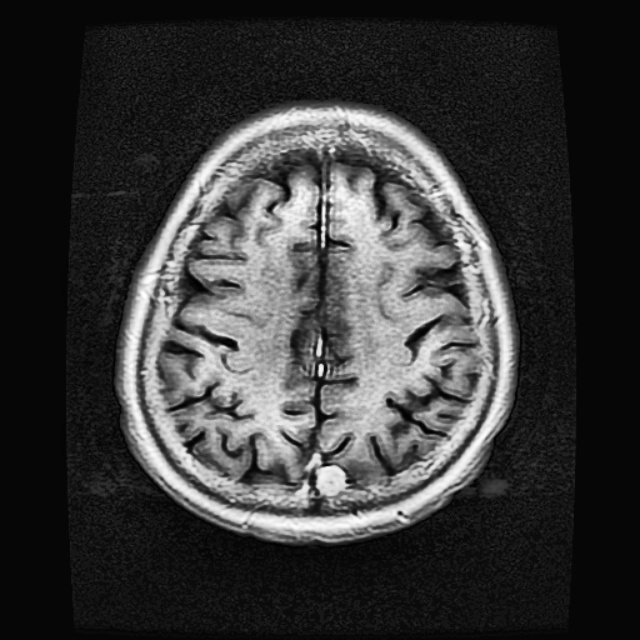Glioma: (319, 464, 345, 493)
